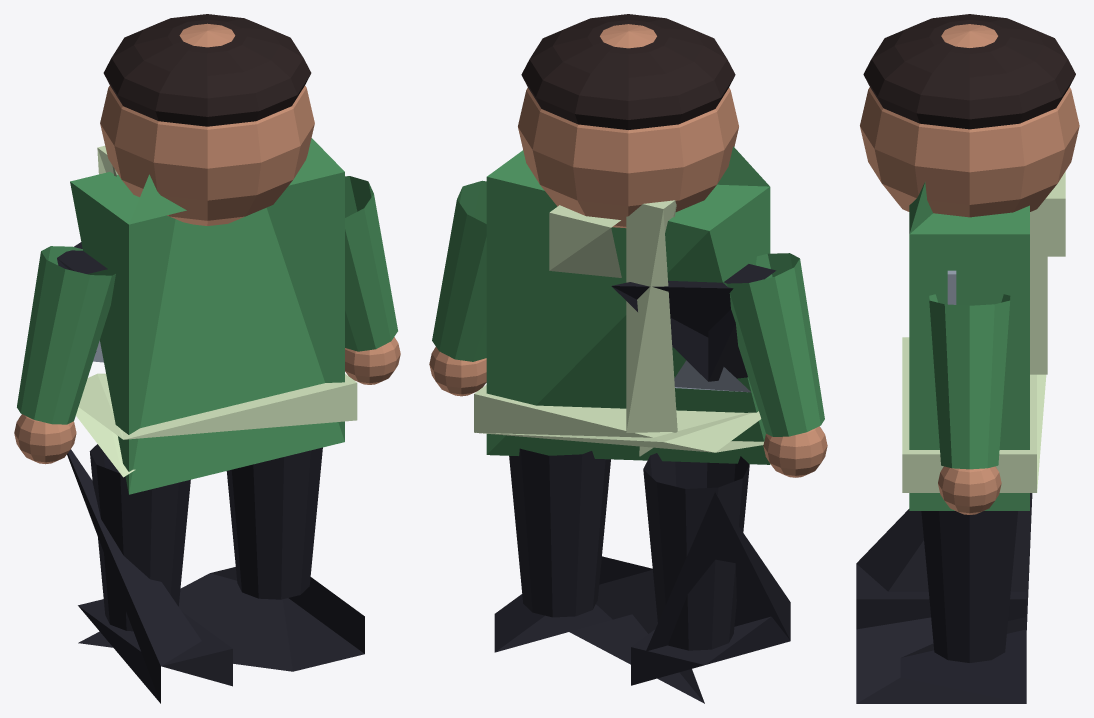
Rendered from Ranger_Male.obj.
3 views of the same model, side by side, from view 1: azimuth 30°, elevation 25°; view 2: azimuth 150°, elevation 25°; view 3: azimuth 270°, elevation 25° (orthographic). The views are drawn at different scales.
Visible parts, largest first — view 1: Ranger_Male; view 2: Ranger_Male; view 3: Ranger_Male.
Boxes of the visible parts, x1,y1,x2,y2 form: Ranger_Male: (14, 14, 400, 703); Ranger_Male: (429, 14, 827, 703); Ranger_Male: (856, 14, 1079, 703).
Size of the model in its own units: 1.26 by 1.93 by 0.63.
